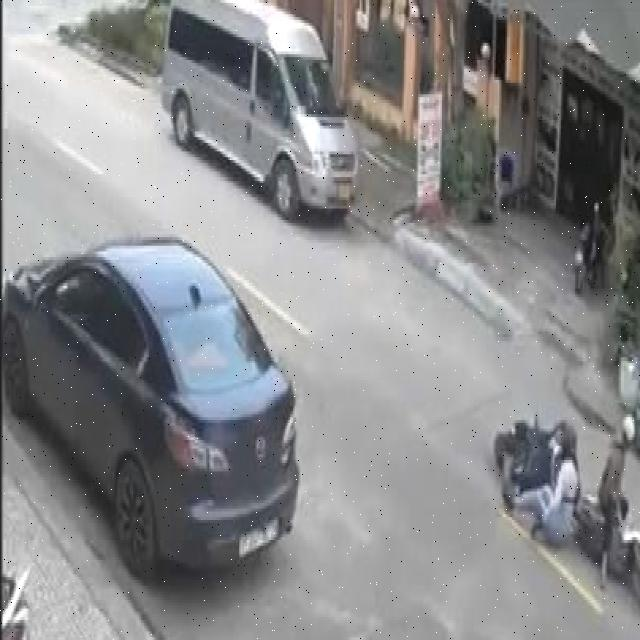accident: (490, 382, 640, 628)
